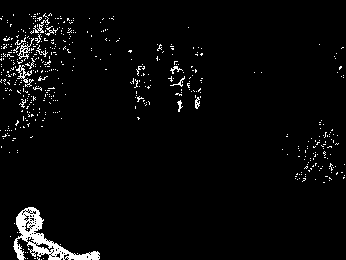person: (14, 207, 100, 260), (130, 63, 154, 120), (169, 59, 186, 114), (188, 65, 204, 112)
